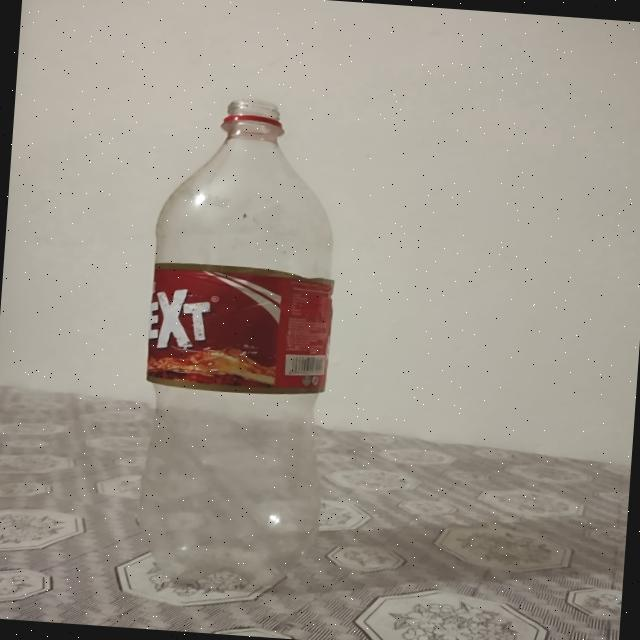bottle: (134, 97, 346, 598)
label: (144, 258, 345, 402)
